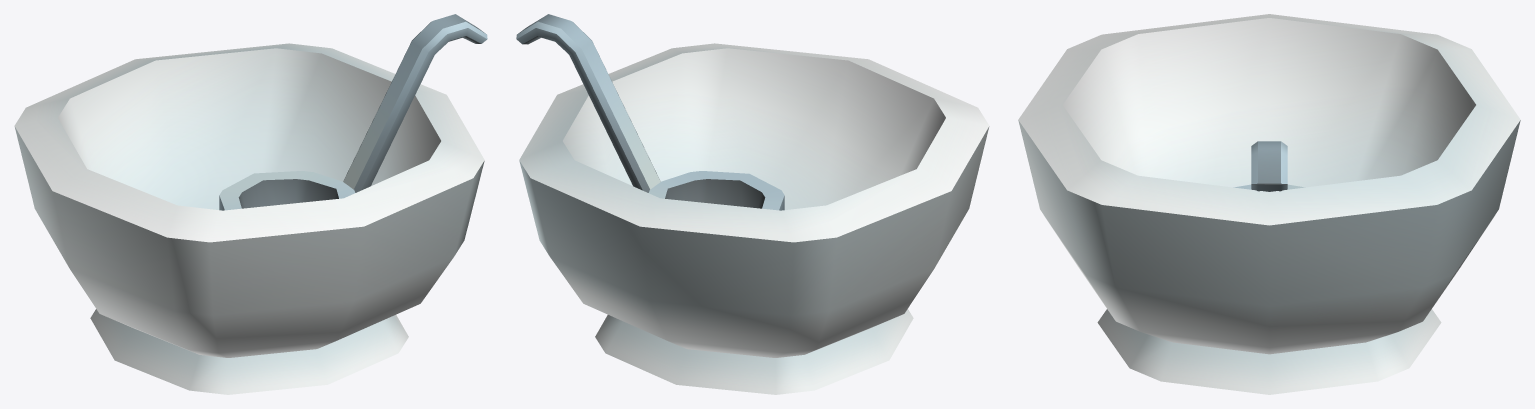
The model's file is bowl_soup_laddle.fbx.
3 views of the same model, side by side, from view 1: azimuth 30°, elevation 25°; view 2: azimuth 150°, elevation 25°; view 3: azimuth 270°, elevation 25° (orthographic). The views are drawn at different scales.
Parts seen in each view (by area): view 1: bowl_soup_laddle; view 2: bowl_soup_laddle; view 3: bowl_soup_laddle.
Part boxes in pixels (bbox=[...]): bowl_soup_laddle: bbox=[14, 14, 487, 394]; bowl_soup_laddle: bbox=[516, 14, 989, 394]; bowl_soup_laddle: bbox=[1018, 14, 1520, 394].
Bounding box in the file's own units: 64.92 × 37.27 × 59.83.
